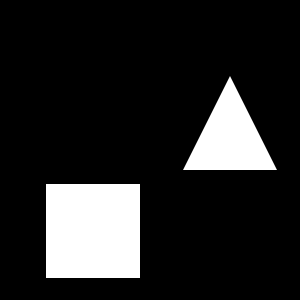circle: (46, 184, 140, 278)
triangle: (183, 76, 277, 170)
